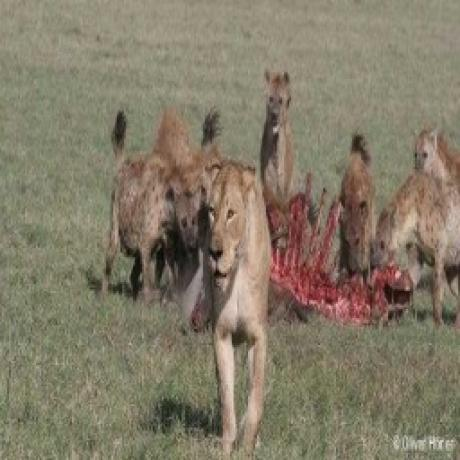Lion: (194, 151, 272, 449)
